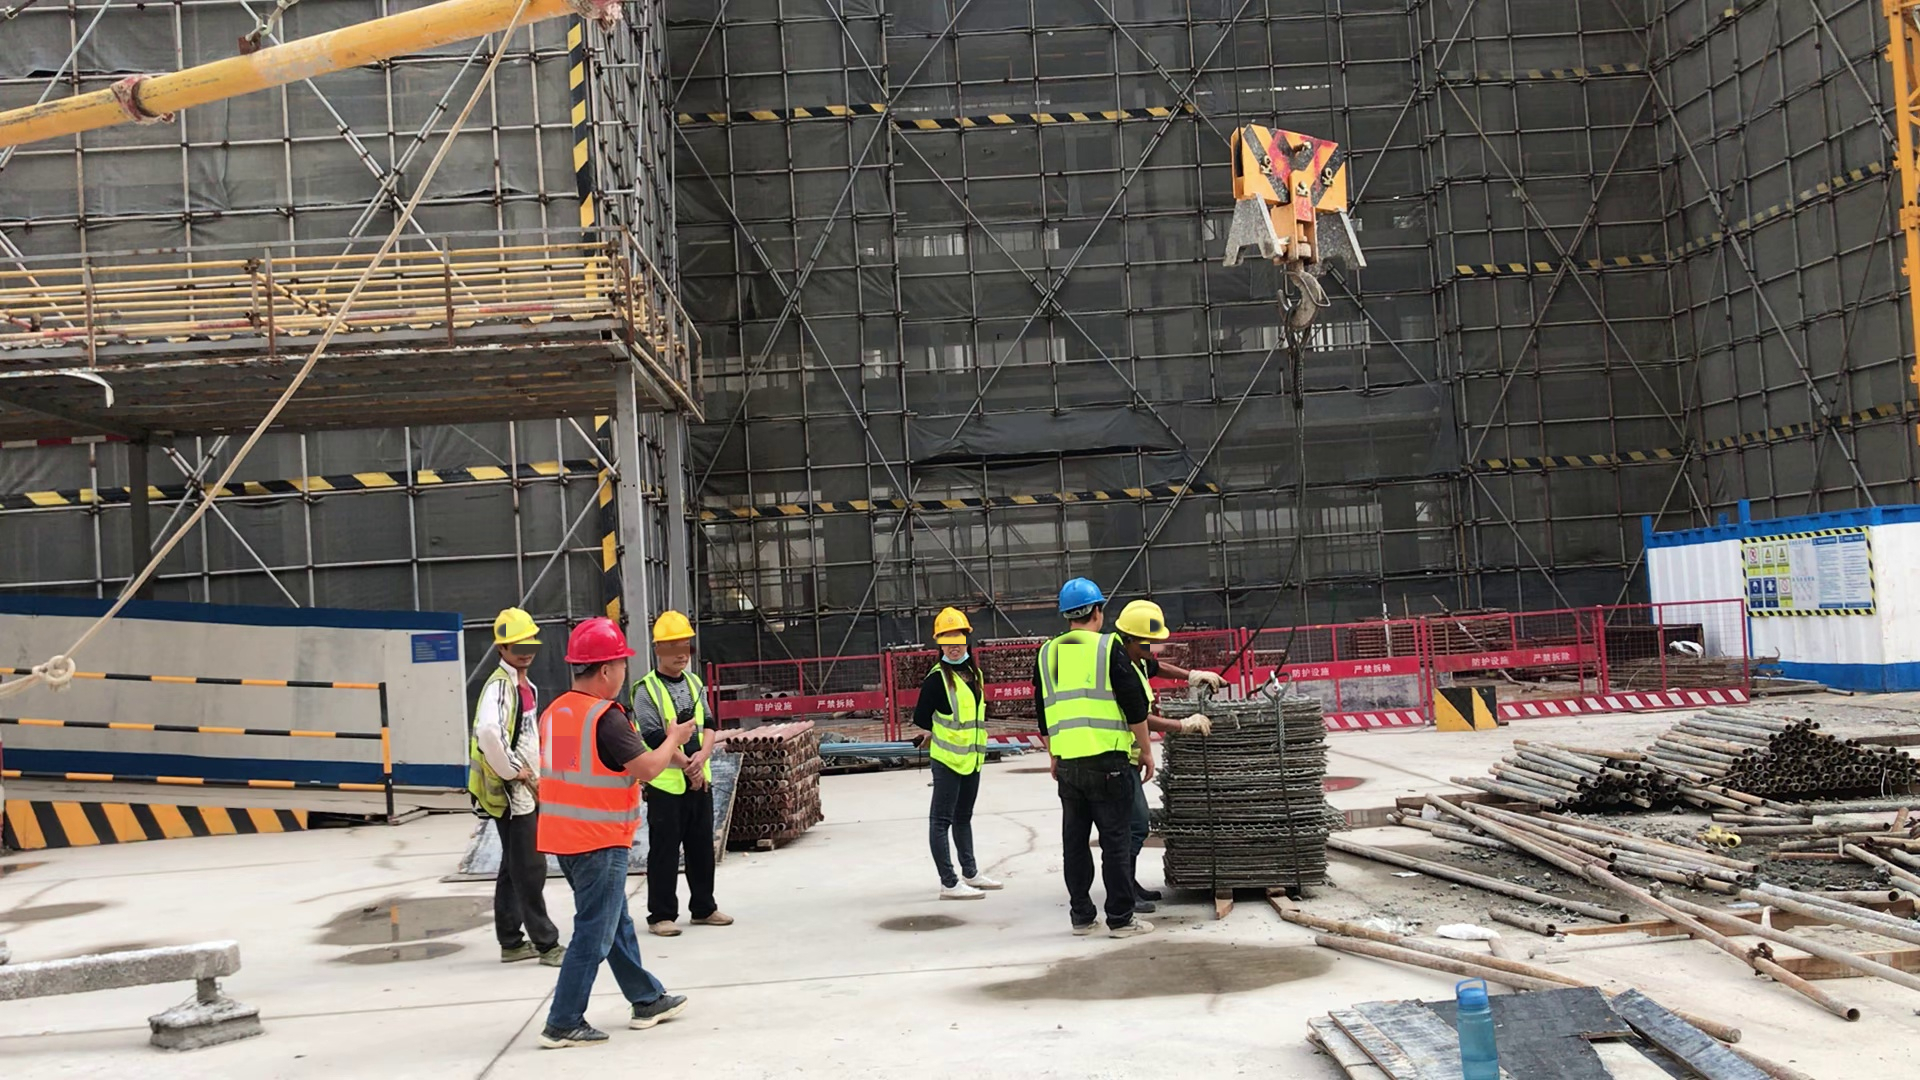fence: (73, 664, 417, 808), (1510, 594, 1747, 716), (1318, 608, 1436, 734), (826, 642, 891, 731)
helmet: (562, 619, 638, 665), (1117, 601, 1172, 643), (485, 609, 541, 646), (1057, 577, 1106, 613), (651, 612, 697, 642), (933, 611, 974, 638)
hook: (1213, 113, 1377, 324)
person: (539, 615, 691, 1050), (1040, 576, 1158, 943), (642, 610, 741, 941), (920, 607, 1011, 909), (472, 603, 543, 965), (1127, 596, 1229, 738)
scaffold: (1677, 702, 1919, 806), (1450, 734, 1693, 815), (733, 720, 828, 843)
slogan: (1747, 532, 1874, 616)
vest: (541, 691, 639, 859), (1043, 631, 1135, 765), (635, 666, 718, 797), (472, 665, 520, 824), (926, 663, 992, 778)
